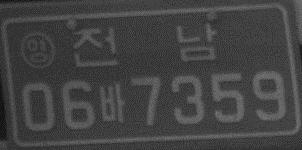0: (22, 81, 55, 133)
3: (170, 74, 205, 125)
5: (210, 72, 246, 124)
6: (61, 80, 95, 131)
7: (130, 76, 162, 127)
9: (251, 71, 286, 121)
바: (98, 83, 126, 124)
영: (19, 31, 56, 70)
전남_D: (71, 23, 216, 68)
